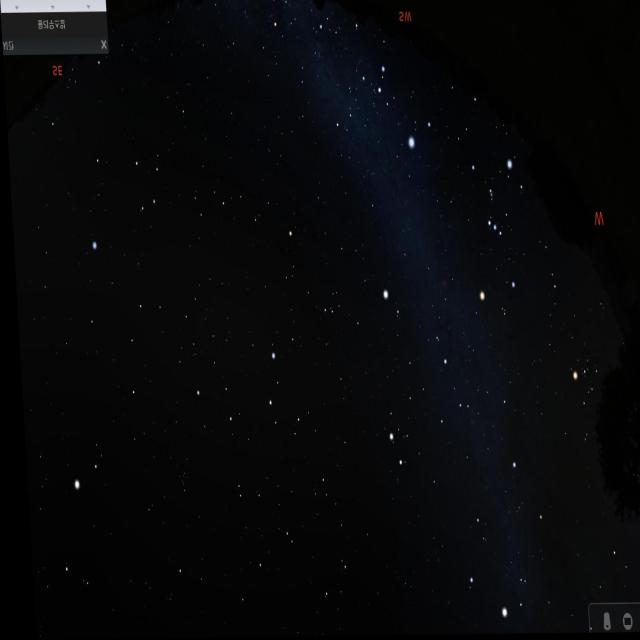bootes: (28, 460, 96, 628)
canis_major: (366, 53, 440, 168)
canis_minor: (378, 280, 401, 322)
gemini: (374, 335, 471, 473)
leo: (186, 334, 310, 448)
orion: (467, 154, 523, 304)
taurus: (562, 335, 637, 465)
